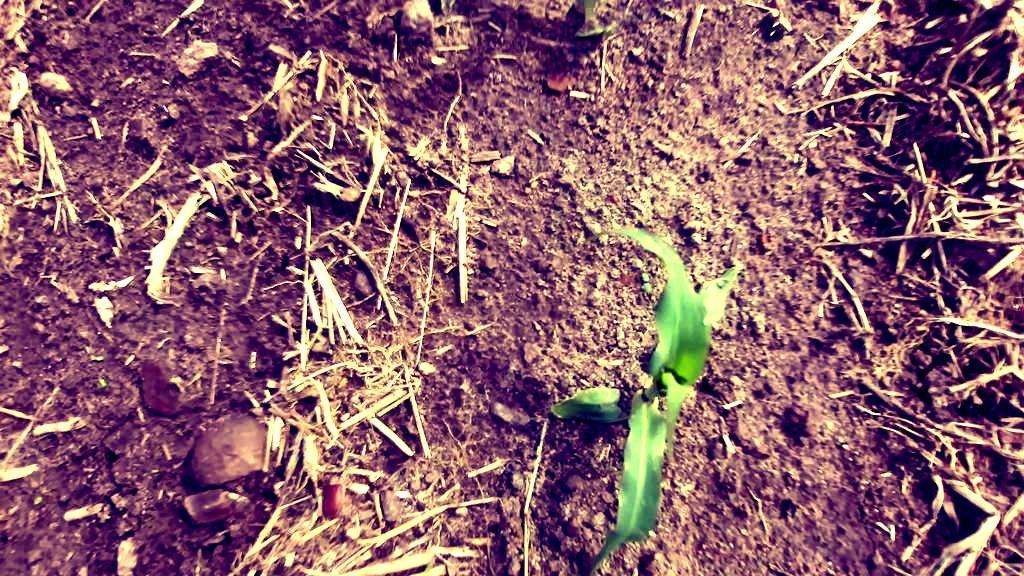BroWeed: (639, 271, 653, 295), (97, 376, 108, 389), (32, 495, 43, 506), (176, 430, 184, 436)
Maize: (480, 210, 745, 576)
